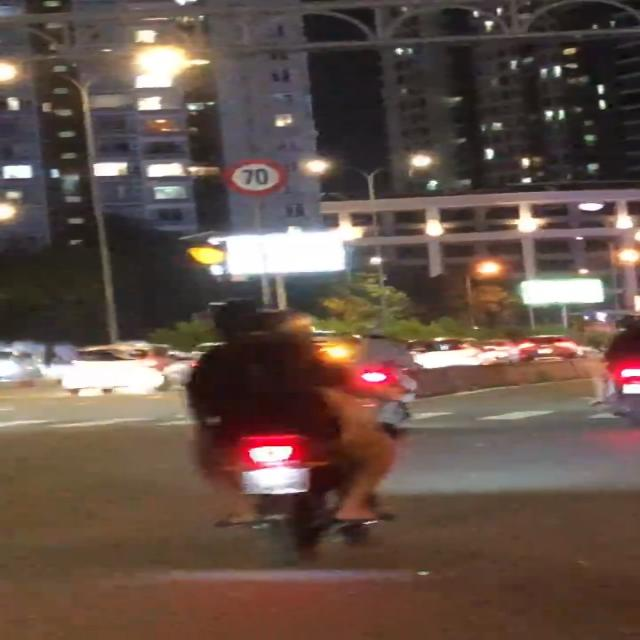Bien bao toc do toi da cho phep: (219, 156, 293, 198)
